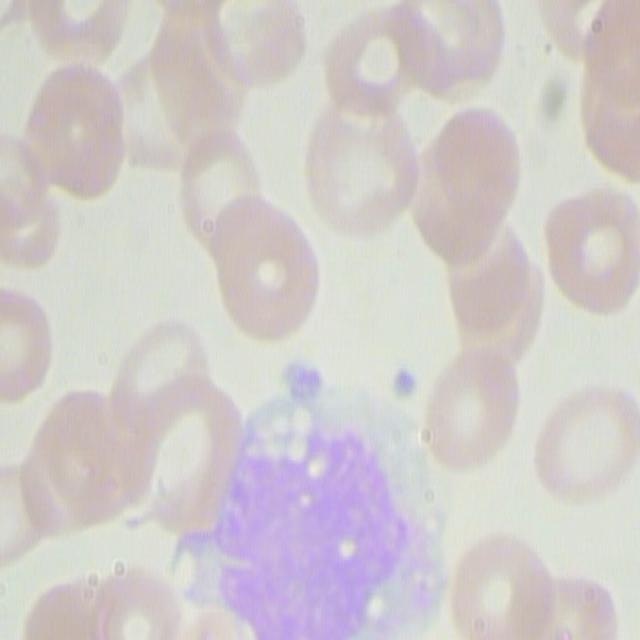RBC: (113, 3, 235, 182), (109, 362, 235, 533), (18, 383, 149, 537), (404, 107, 518, 263), (301, 94, 418, 241), (207, 200, 323, 345), (21, 64, 124, 204), (440, 221, 539, 362), (526, 382, 637, 506), (538, 187, 638, 314), (444, 527, 558, 637), (418, 350, 518, 472), (318, 1, 420, 120), (568, 0, 637, 174), (394, 1, 510, 96), (112, 314, 206, 430), (201, 0, 308, 87), (175, 124, 258, 233), (69, 0, 175, 85), (0, 132, 60, 270), (88, 564, 179, 640), (0, 277, 51, 411), (526, 570, 622, 640), (18, 0, 130, 55)
WBC: (237, 405, 418, 640)
platelets: (279, 356, 325, 412)
